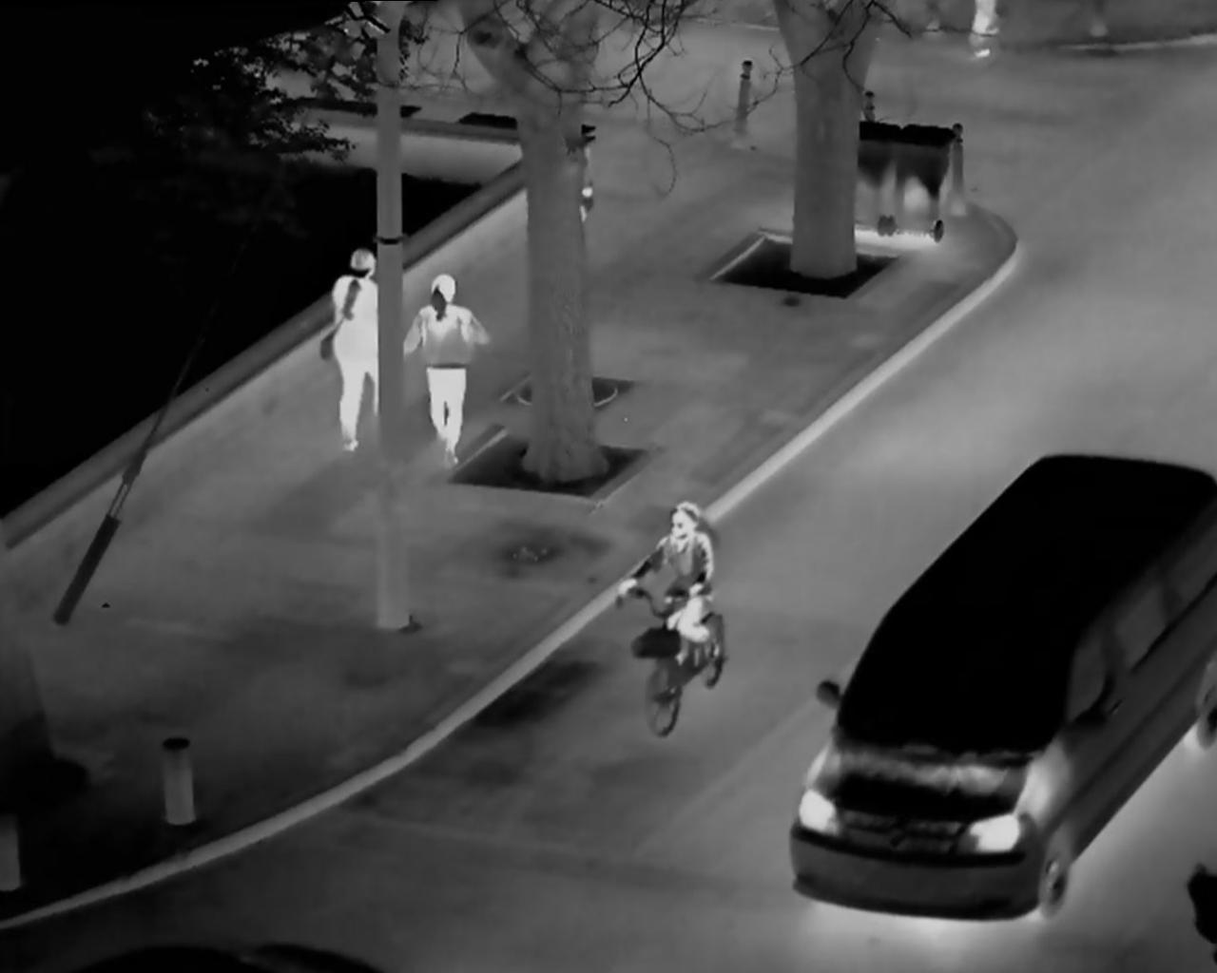person: (625, 495, 739, 754), (406, 258, 502, 473), (321, 227, 391, 458)
